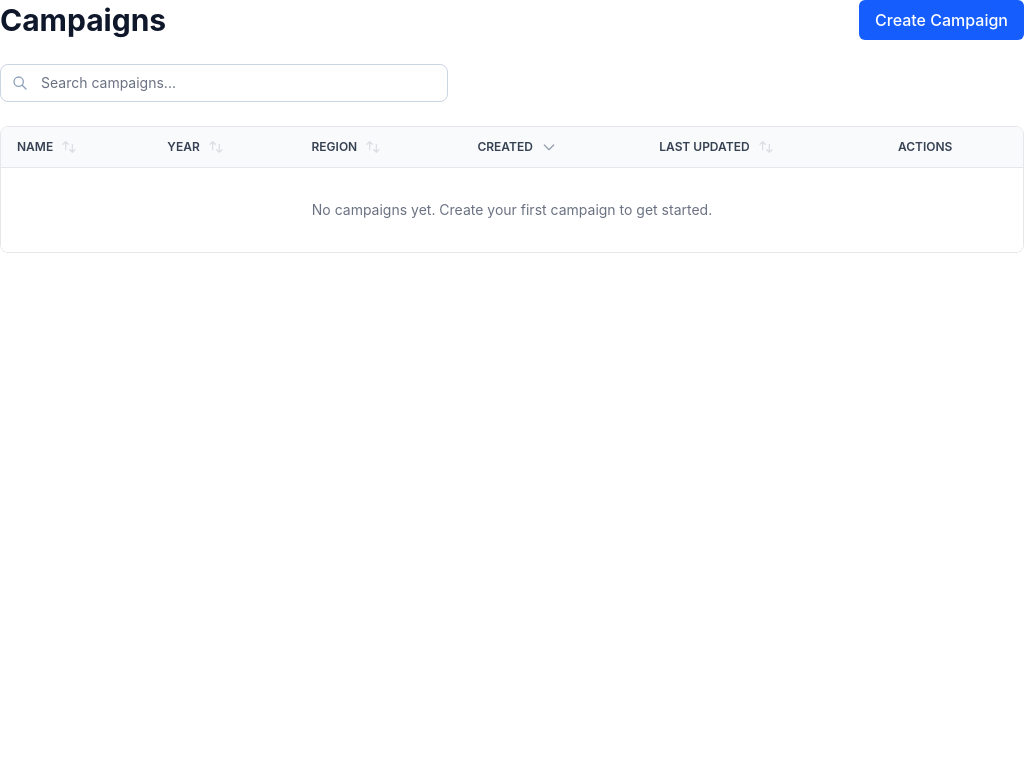
Test case: Campaigns List Page › Create › resets year to the new current year after creation across New Year
Click the button "Create Campaign". click: [942, 20]
box: x1=859 y1=0 x2=1023 y2=40
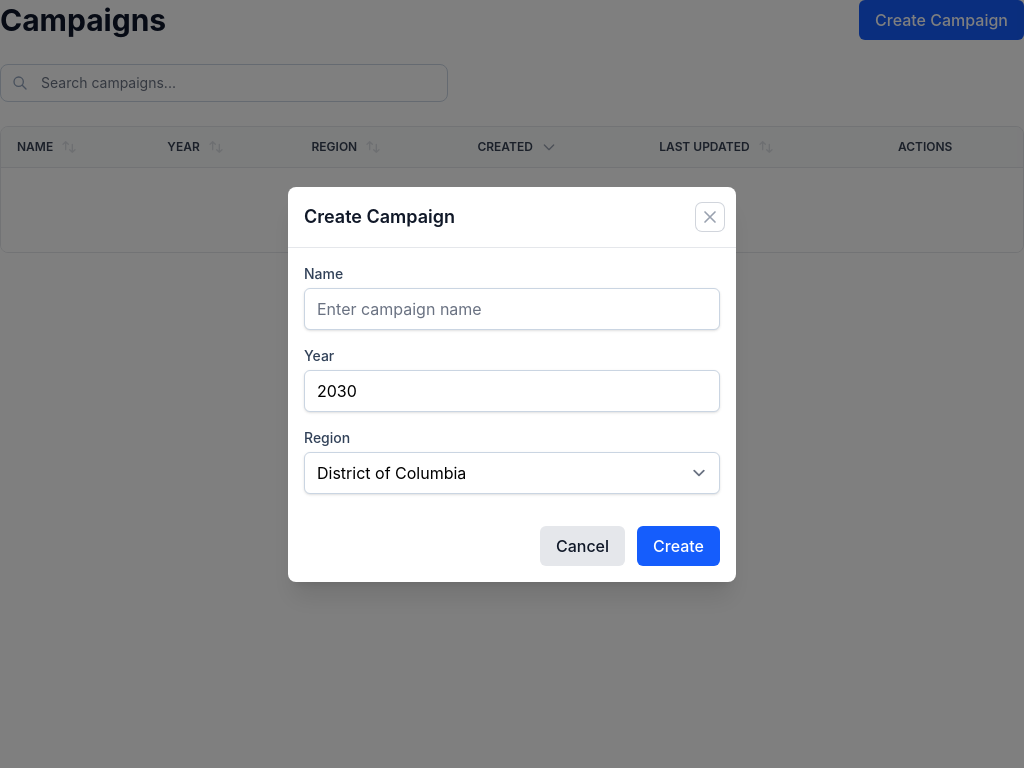
Expected: the number field labelled "Year" holds "2030", x1=304 y1=370 x2=720 y2=412
Type "New Campaign" into the field labelled "Name". click: [512, 308]
box: x1=304 y1=288 x2=720 y2=330
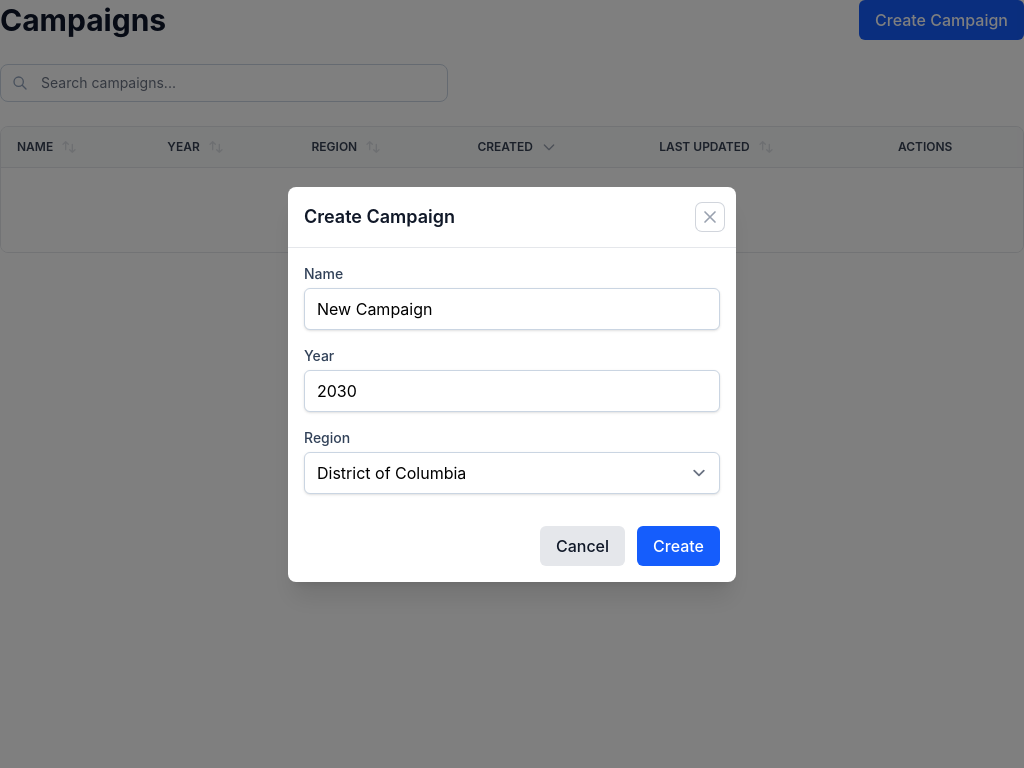
Replace the text in the number field labelled "Year" with "2001". click: [512, 390]
box: x1=304 y1=370 x2=720 y2=412
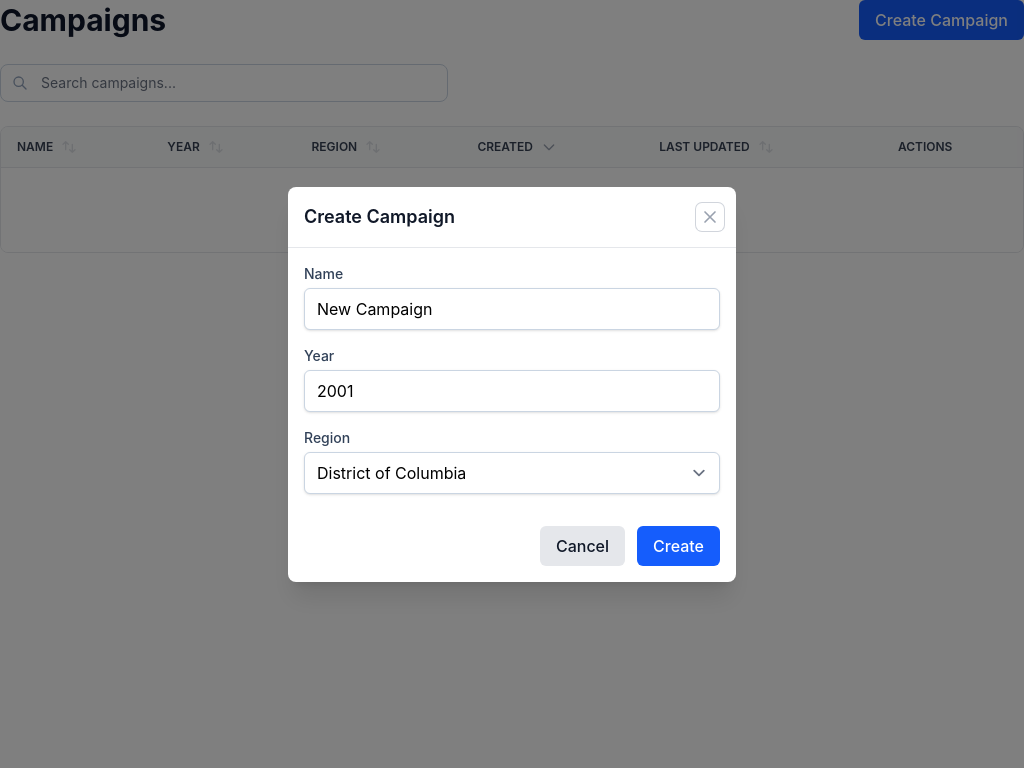
Click the button "Create". click: [678, 546]
box: x1=637 y1=526 x2=720 y2=566
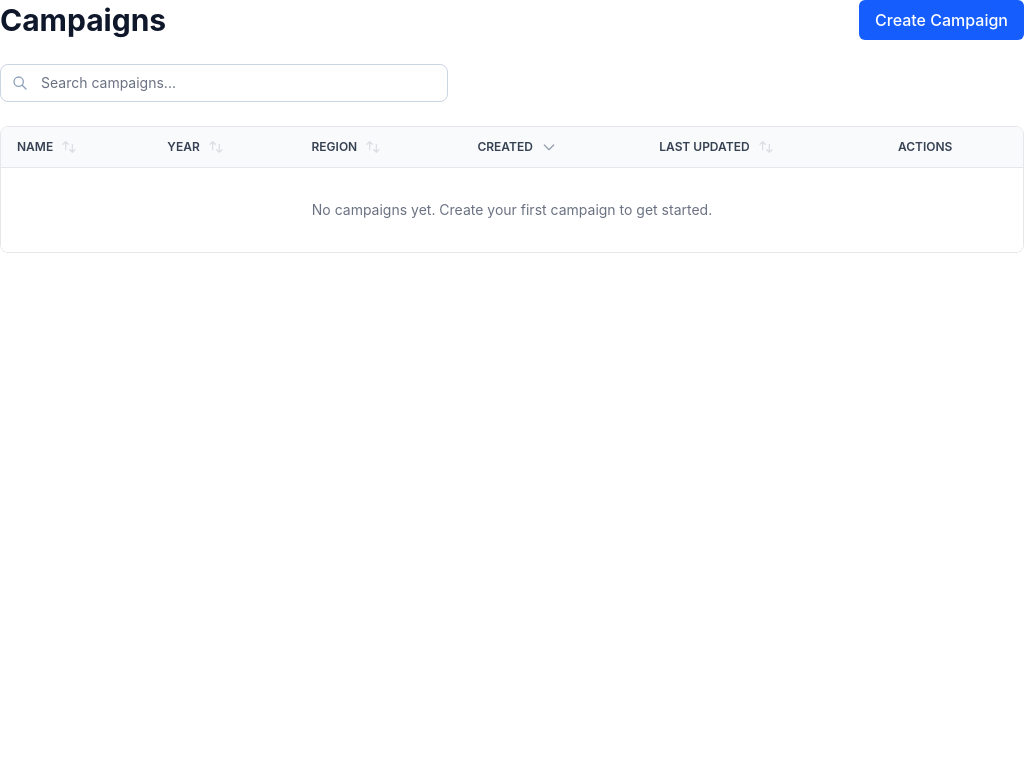
Expected: the dialog is gone
Click the button "Create Campaign". click: [942, 20]
box: x1=859 y1=0 x2=1023 y2=40
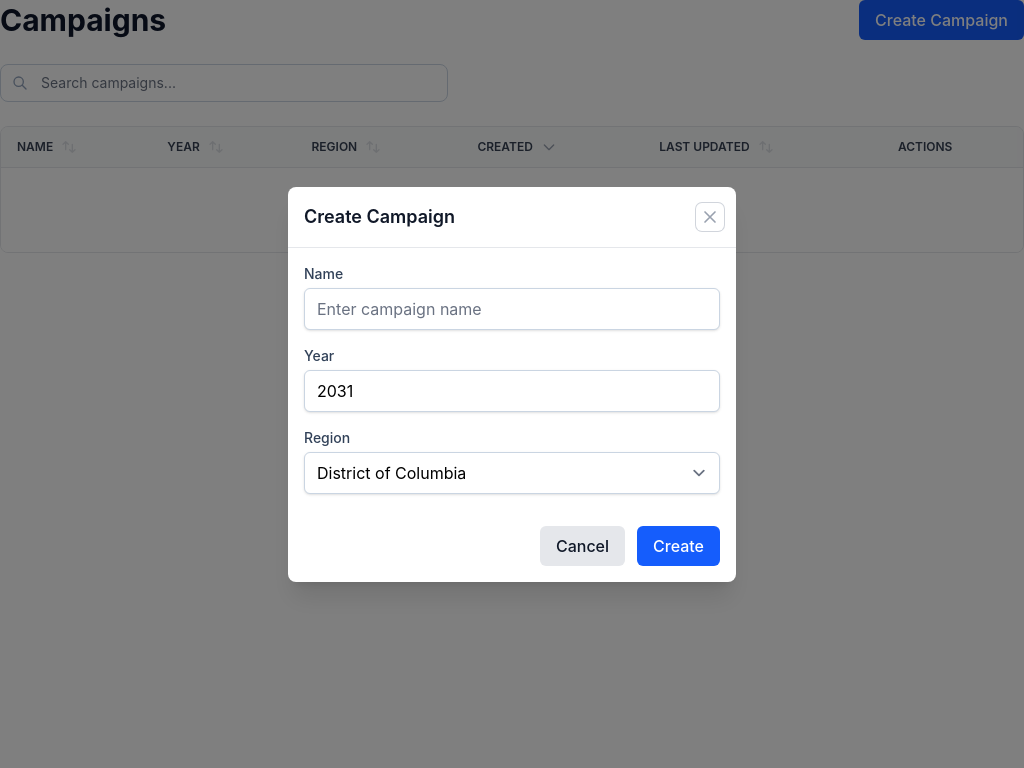
Expected: the dialog is shown, x1=288 y1=186 x2=736 y2=582
Expected: the number field labelled "Year" holds "2031", x1=304 y1=370 x2=720 y2=412
